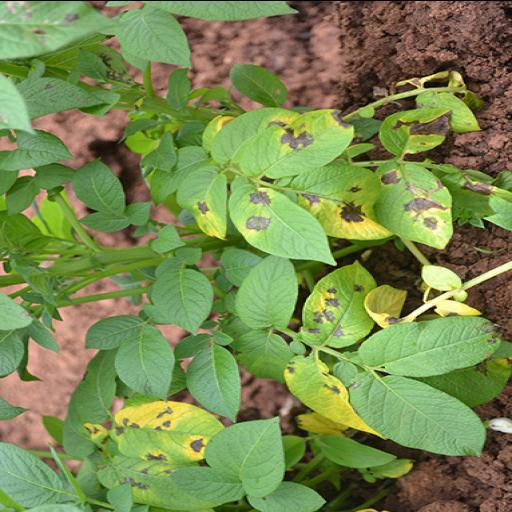Early Blight: (286, 163, 398, 244), (280, 354, 386, 438), (228, 186, 332, 266), (365, 158, 453, 250), (107, 400, 225, 466), (298, 258, 380, 348), (252, 108, 354, 180), (96, 448, 206, 508), (179, 164, 231, 240), (377, 104, 449, 156)
